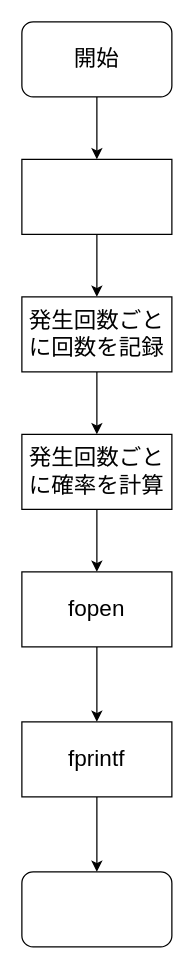
The diagram is 194 pixels wide and 969 high, and some of its shapes have lost their labels. Here are the shapes that lost their labels. From the top down, the centre of each, then its label:
At (x=96, y=196): "初期化".
At (x=96, y=909): "終了".
